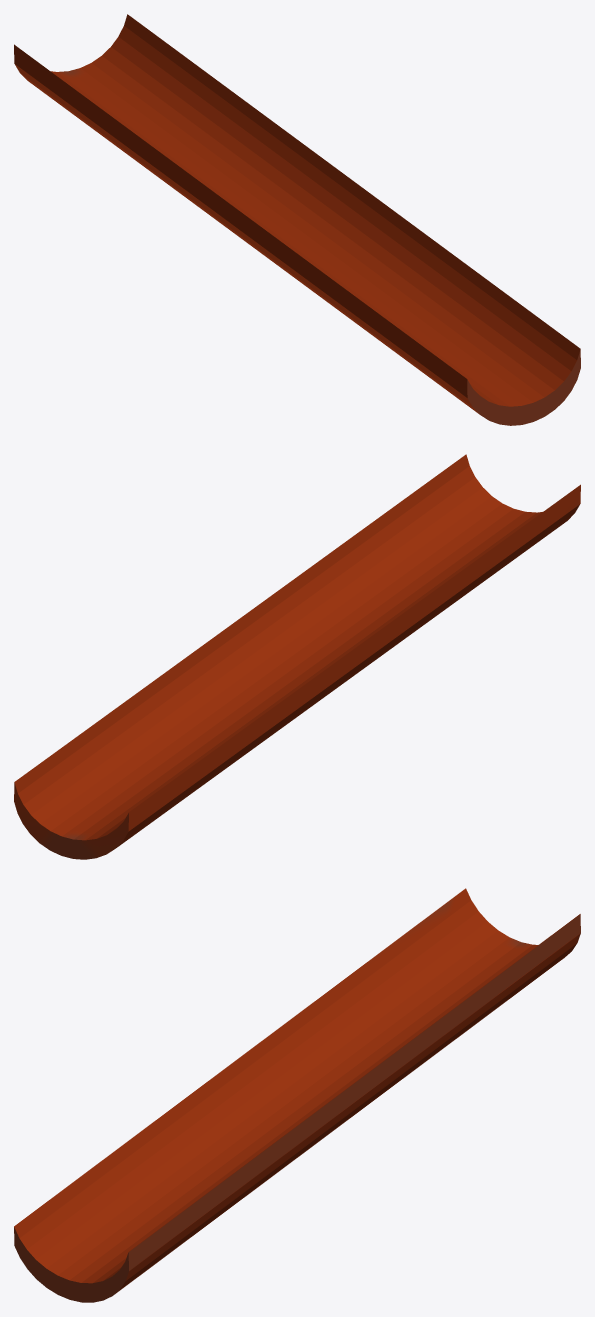
File: HalfPipe.fbx
3 views of the same model, one above another, from view 1: azimuth 30°, elevation 25°; view 2: azimuth 150°, elevation 25°; view 3: azimuth 330°, elevation 25° (orthographic).
Visible parts, largest first — view 1: Cylinder; view 2: Cylinder; view 3: Cylinder.
Boxes of the visible parts, box(x1,y1,x2,y2) form: Cylinder: box(14, 14, 580, 425); Cylinder: box(14, 454, 580, 859); Cylinder: box(14, 888, 580, 1302).
Bounding box in the file's own units: 532 × 294 × 3576.
1 material, 1 textured.
